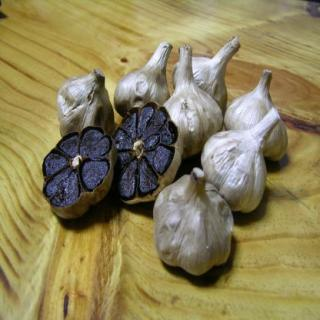Bawang Putih: (156, 175, 235, 275), (202, 126, 267, 214), (225, 93, 289, 162), (164, 90, 227, 157), (58, 72, 116, 136)
